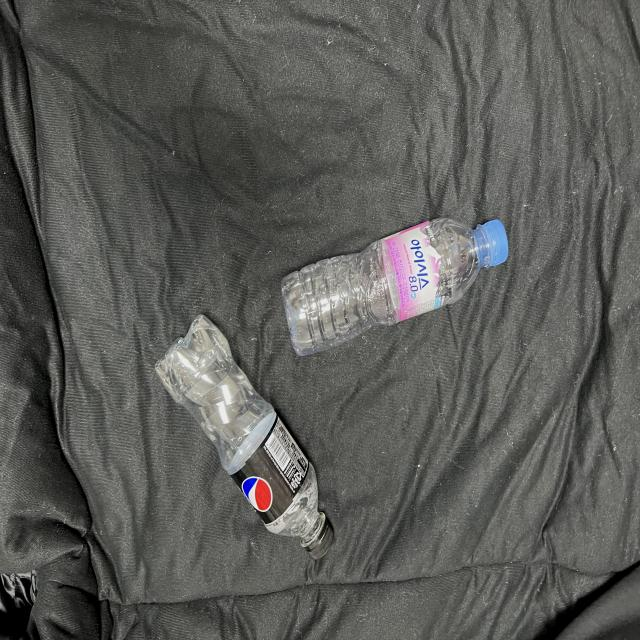bottle: (142, 290, 357, 583), (267, 187, 522, 369)
